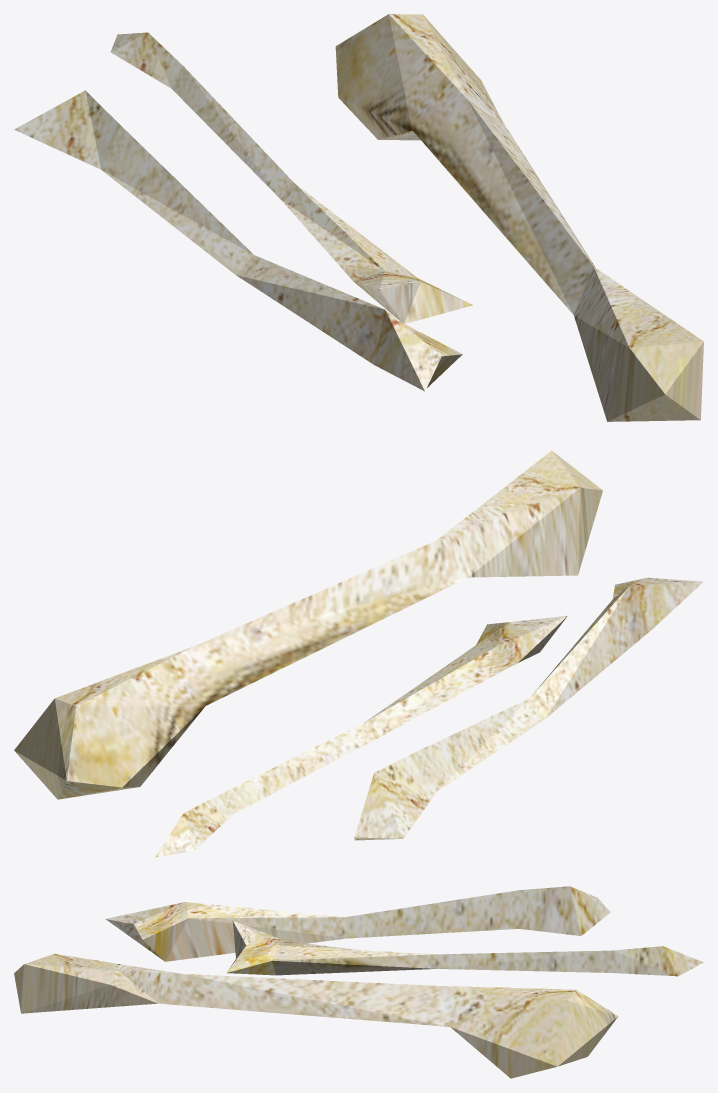
The model's file is poi_tato_skel_krayt_arm_s02_l1.fbx.
3 renders of one model, top to bottom at view 1: azimuth 30°, elevation 25°; view 2: azimuth 150°, elevation 25°; view 3: azimuth 270°, elevation 25°, orthographic. The views are drawn at different scales.
Visible parts, largest first — view 1: mesh_node; view 2: mesh_node; view 3: mesh_node.
Boxes of the visible parts, left/top/right/bottom form: mesh_node: left=14, top=14, right=703, bottom=421; mesh_node: left=14, top=450, right=703, bottom=857; mesh_node: left=14, top=886, right=703, bottom=1078.
Size of the model in its own units: 2.05 by 0.48 by 4.14.
Materials: 1 (1 with a texture image).
